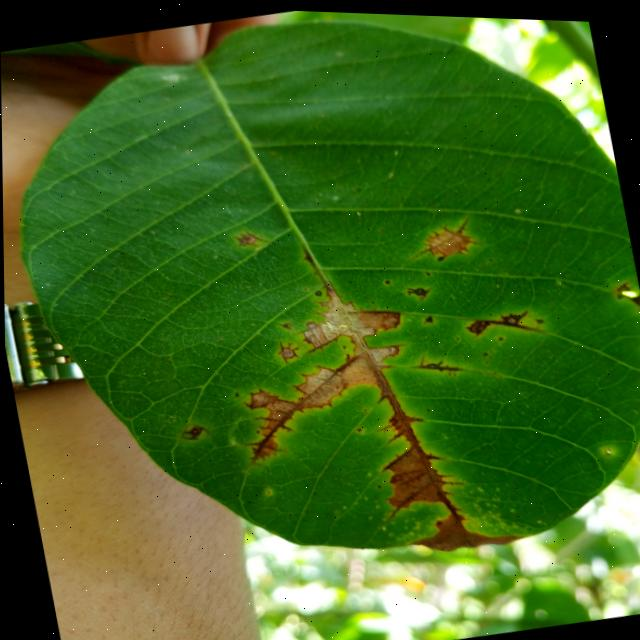Colletotrichum: (313, 287, 321, 294), (535, 314, 543, 320), (383, 276, 390, 281)
Corynespora: (227, 346, 376, 467), (361, 368, 464, 525), (400, 210, 481, 263), (462, 302, 541, 339), (408, 345, 462, 377), (383, 482, 428, 515), (375, 439, 416, 471), (354, 298, 400, 321), (304, 329, 344, 352), (232, 226, 266, 249), (273, 335, 300, 363), (179, 419, 209, 441), (402, 279, 433, 299)
Leaf-Blight: (279, 275, 409, 411), (405, 498, 524, 557), (380, 441, 439, 509)
